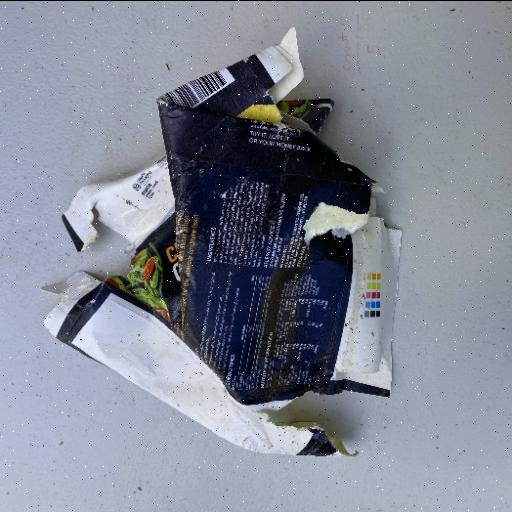Cardboard: (41, 30, 403, 458), (40, 268, 358, 458)
